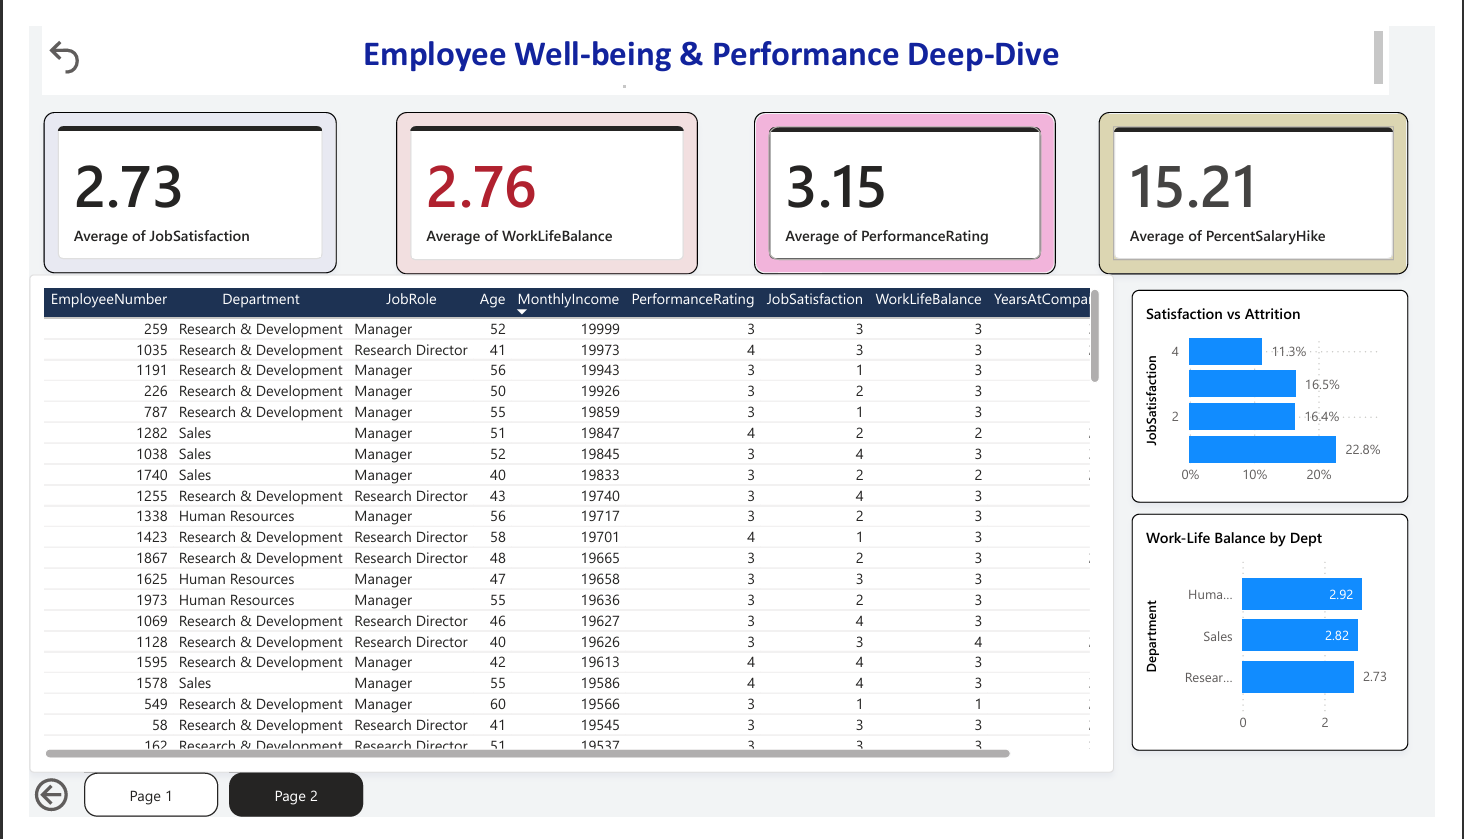

The page's visual inventory and layout, read from the dashboard file:
{"tool":"powerbi","page":{"name":"Page 2","canvas":[1280,720],"ordinal":1},"visuals":[{"type":"cardVisual","fields":{"Data":["Avg(WA_Fn-UseC_-HR-Employee-Attrition.JobSatisfaction)"]},"box":[12.5,77.5,267.5,147.5],"z":0},{"type":"cardVisual","fields":{"Data":["Avg(WA_Fn-UseC_-HR-Employee-Attrition.WorkLifeBalance)"]},"box":[333.8,77.5,275,148.8],"z":1000},{"type":"textbox","box":[681.7,211.7,40,28.3],"z":2000},{"type":"textbox","box":[11.7,0,1226.7,61.7],"z":3000},{"type":"textbox","box":[536.2,48.8,12.5,12.5],"z":4000},{"type":"cardVisual","fields":{"Data":["Avg(WA_Fn-UseC_-HR-Employee-Attrition.PerformanceRating)"]},"box":[660,77.5,275,148.8],"z":5000},{"type":"cardVisual","fields":{"Data":["Avg(WA_Fn-UseC_-HR-Employee-Attrition.PercentSalaryHike)"]},"box":[973.8,77.5,282.5,148.8],"z":6000},{"type":"actionButton","box":[12,8,50,40],"z":7000},{"type":"barChart","title":"Satisfaction vs Attrition","fields":{"Category":["WA_Fn-UseC_-HR-Employee-Attrition.JobSatisfaction"],"Y":["WA_Fn-UseC_-HR-Employee-Attrition.Attrition Rate"]},"box":[1003.8,240,252.5,193.8],"z":8000},{"type":"clusteredBarChart","title":"Work-Life Balance by Dept","fields":{"Category":["WA_Fn-UseC_-HR-Employee-Attrition.Department"],"Y":["Avg(WA_Fn-UseC_-HR-Employee-Attrition.WorkLifeBalance)"]},"box":[1003.8,443.8,252.5,216.2],"z":9000},{"type":"tableEx","fields":{"Values":["WA_Fn-UseC_-HR-Employee-Attrition.EmployeeNumber","WA_Fn-UseC_-HR-Employee-Attrition.Department","WA_Fn-UseC_-HR-Employee-Attrition.JobRole","WA_Fn-UseC_-HR-Employee-Attrition.Age","WA_Fn-UseC_-HR-Employee-Attrition.MonthlyIncome","WA_Fn-UseC_-HR-Employee-Attrition.PerformanceRating","WA_Fn-UseC_-HR-Employee-Attrition.JobSatisfaction","WA_Fn-UseC_-HR-Employee-Attrition.WorkLifeBalance","WA_Fn-UseC_-HR-Employee-Attrition.YearsAtCompany","WA_Fn-UseC_-HR-Employee-Attrition.Attrition"]},"box":[0,226,988,454],"z":10000},{"type":"actionButton","box":[0,680,100,40],"z":11000},{"type":"pageNavigator","box":[50,680,254,40],"z":12000}]}

Visuals, with their boxes on the page's 1280x720 design canvas (x1, y1, x2, y2). These are canvas units, not pixel positions in the 1464x839 screenshot, which may show the page scaled, cropped or inside an application window:
cardVisual - Avg(WA_Fn-UseC_-HR-Employee-Attrition.JobSatisfaction): [12,78,280,225]
cardVisual - Avg(WA_Fn-UseC_-HR-Employee-Attrition.WorkLifeBalance): [334,78,609,226]
textbox: [682,212,722,240]
textbox: [12,0,1238,62]
textbox: [536,49,549,61]
cardVisual - Avg(WA_Fn-UseC_-HR-Employee-Attrition.PerformanceRating): [660,78,935,226]
cardVisual - Avg(WA_Fn-UseC_-HR-Employee-Attrition.PercentSalaryHike): [974,78,1256,226]
actionButton: [12,8,62,48]
"Satisfaction vs Attrition" barChart: [1004,240,1256,434]
"Work-Life Balance by Dept" clusteredBarChart: [1004,444,1256,660]
tableEx - WA_Fn-UseC_-HR-Employee-Attrition.EmployeeNumber x WA_Fn-UseC_-HR-Employee-Attrition.Department: [0,226,988,680]
actionButton: [0,680,100,720]
pageNavigator: [50,680,304,720]
